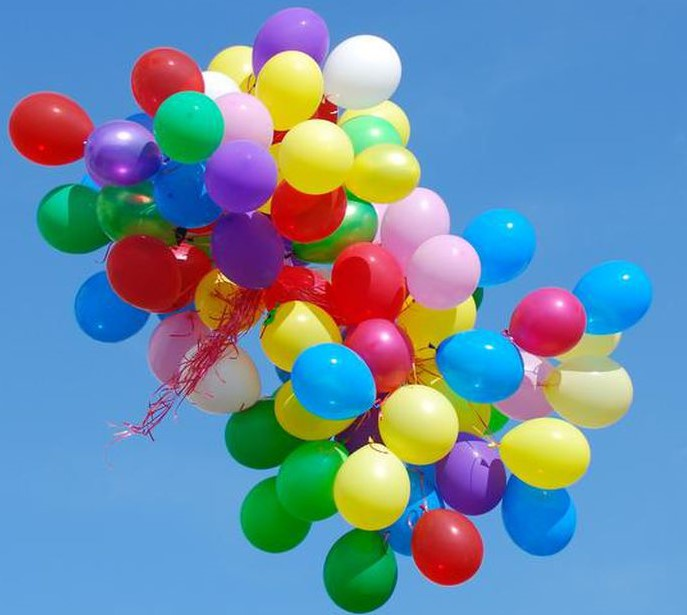Balloon: (333, 442, 410, 530), (292, 343, 379, 419), (378, 384, 459, 465), (499, 418, 591, 489), (543, 356, 633, 428), (436, 329, 524, 402), (324, 529, 398, 614), (502, 474, 577, 557), (322, 35, 404, 110), (178, 341, 262, 414), (10, 92, 92, 166), (105, 235, 182, 311), (468, 204, 536, 287), (438, 433, 506, 516), (279, 119, 353, 195), (412, 508, 484, 586), (256, 50, 324, 132), (574, 260, 649, 334), (407, 234, 480, 310), (332, 242, 402, 321), (213, 208, 282, 287), (275, 440, 341, 520), (35, 183, 109, 254), (510, 287, 585, 355), (281, 120, 349, 195), (207, 140, 279, 210), (154, 90, 223, 163), (85, 119, 160, 186), (344, 145, 419, 203)
